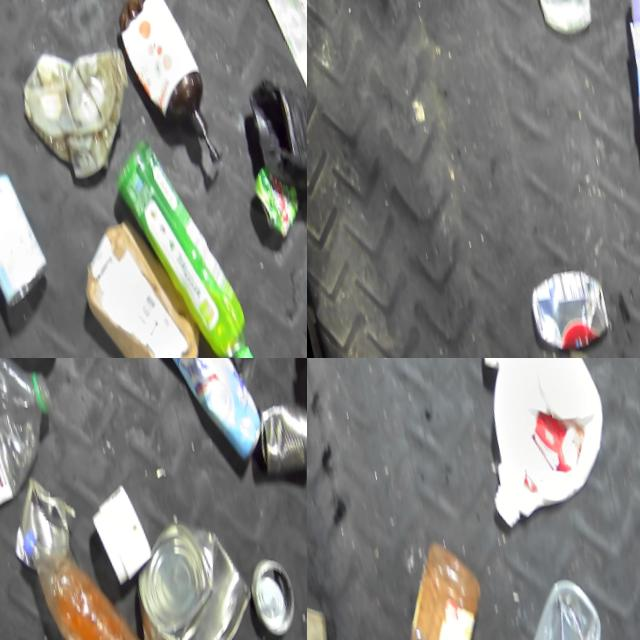can: (129, 505, 273, 640), (0, 158, 58, 326), (534, 257, 619, 348), (251, 389, 307, 476), (250, 550, 307, 630)
milk_jug: (449, 358, 633, 537)
non_white_jug: (105, 116, 265, 358), (600, 0, 640, 180)
plastic_bottle: (382, 531, 509, 640)
